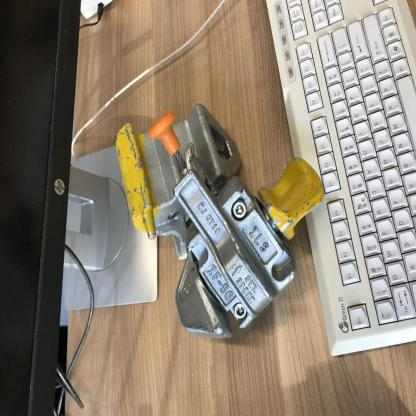Twistlock: (143, 110, 322, 344), (113, 104, 244, 258)
